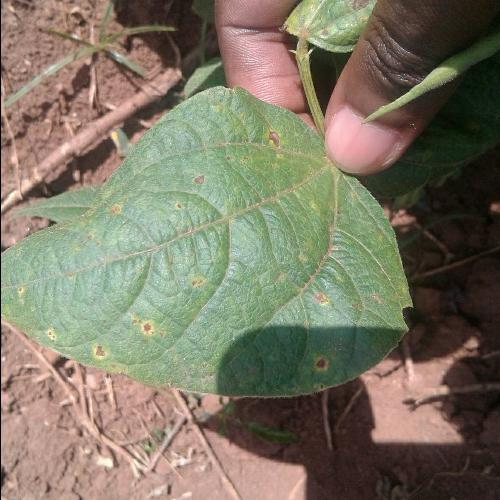hawar: (5, 271, 201, 405), (51, 163, 207, 258), (272, 324, 358, 428), (228, 87, 300, 186)
